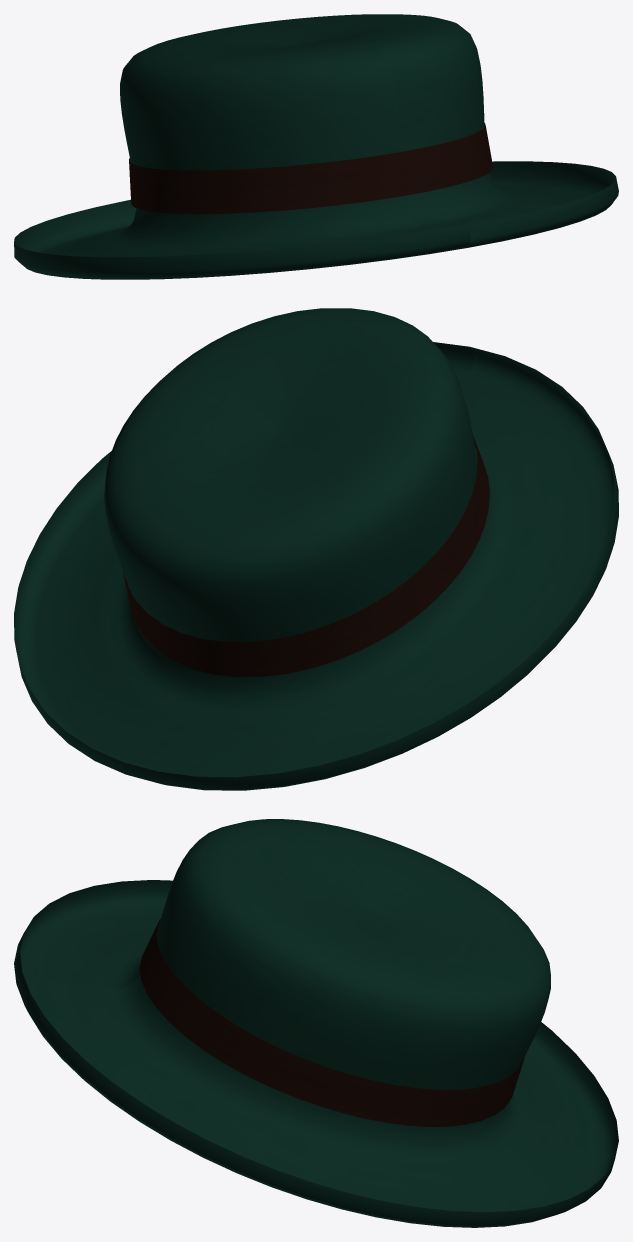
Rendered from hat.plainsman.gltf.
3 renders of one model, top to bottom at view 1: azimuth 30°, elevation 25°; view 2: azimuth 150°, elevation 25°; view 3: azimuth 270°, elevation 25°, orthographic. The views are drawn at different scales.
Visible parts, largest first — view 1: Head; view 2: Head; view 3: Head.
Part boxes in pixels (x1=…): Head: x1=14, y1=14, x2=618, y2=279; Head: x1=14, y1=308, x2=618, y2=790; Head: x1=14, y1=819, x2=618, y2=1227.
Size of the model in its own units: 0.347 by 0.2032 by 0.3612.
Materials: 1 (1 with a texture image).
